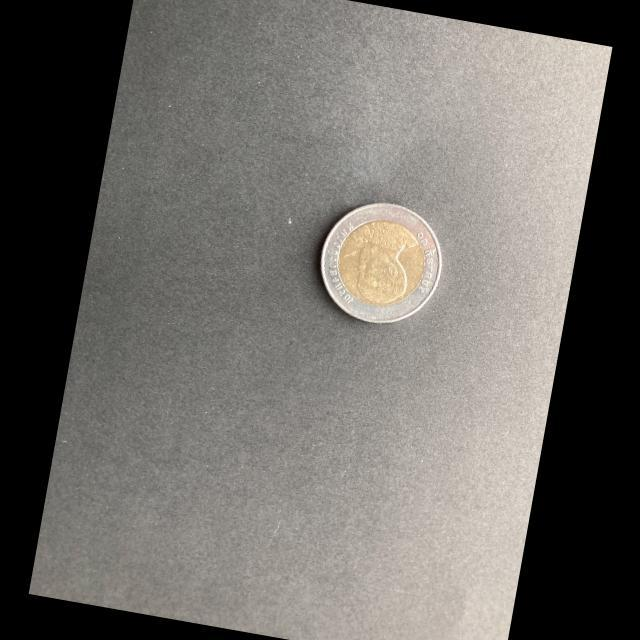10 Bath: (319, 201, 445, 330)
